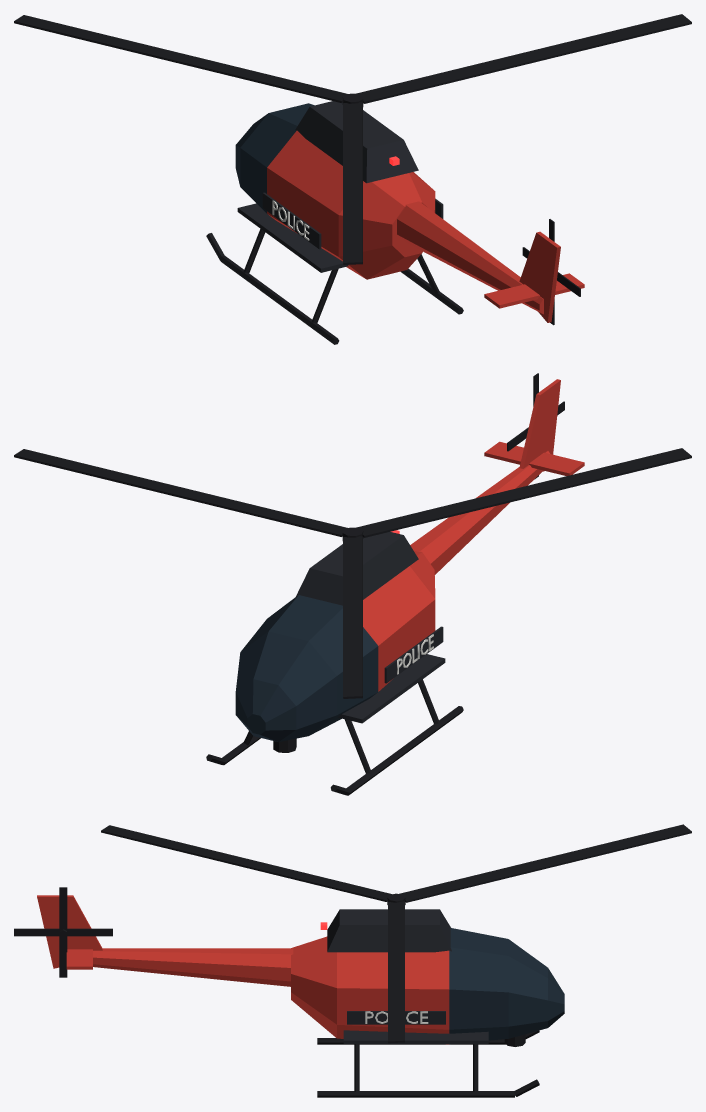
The model's file is police_heli.glb.
3 views of the same model, one above another, from view 1: azimuth 30°, elevation 25°; view 2: azimuth 150°, elevation 25°; view 3: azimuth 270°, elevation 25° (orthographic). The views are drawn at different scales.
Parts seen in each view (by area): view 1: police_heli_Body, police_heli_Rotor_Main; view 2: police_heli_Body, police_heli_Rotor_Main; view 3: police_heli_Body, police_heli_Rotor_Main, police_heli_Rotor_Tail.
Part boxes in pixels (x1,y1,x2,y2): police_heli_Body: (206, 101, 584, 344); police_heli_Rotor_Main: (14, 14, 691, 264); police_heli_Body: (206, 379, 584, 795); police_heli_Rotor_Main: (14, 448, 691, 698); police_heli_Body: (37, 895, 564, 1097); police_heli_Rotor_Main: (101, 824, 691, 1043); police_heli_Rotor_Tail: (14, 887, 112, 977).
Size of the model in its own units: 7.76 by 3.11 by 10.28.
